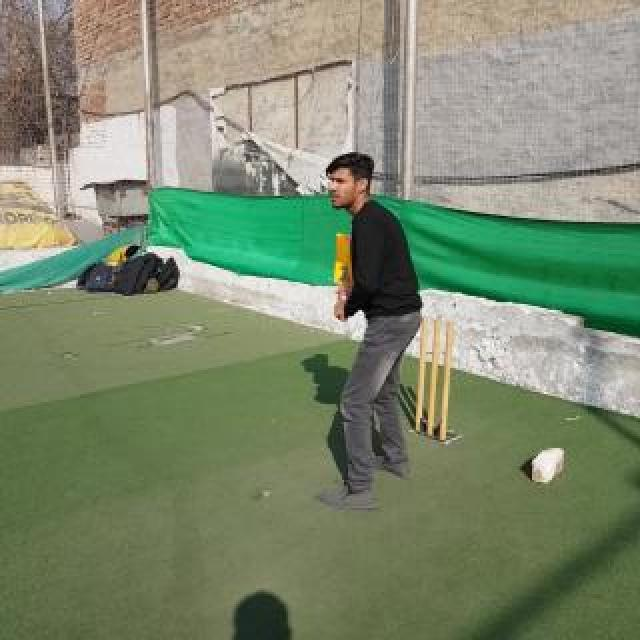bat: (333, 232, 353, 322)
